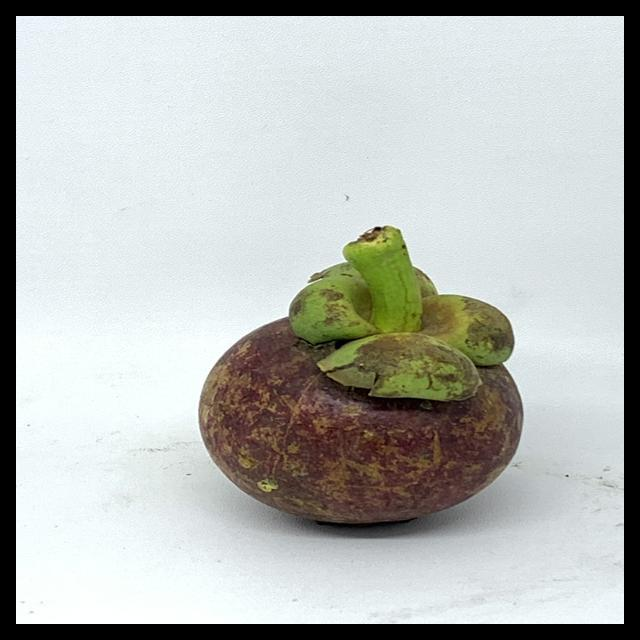mangosteen: (188, 218, 544, 528)
